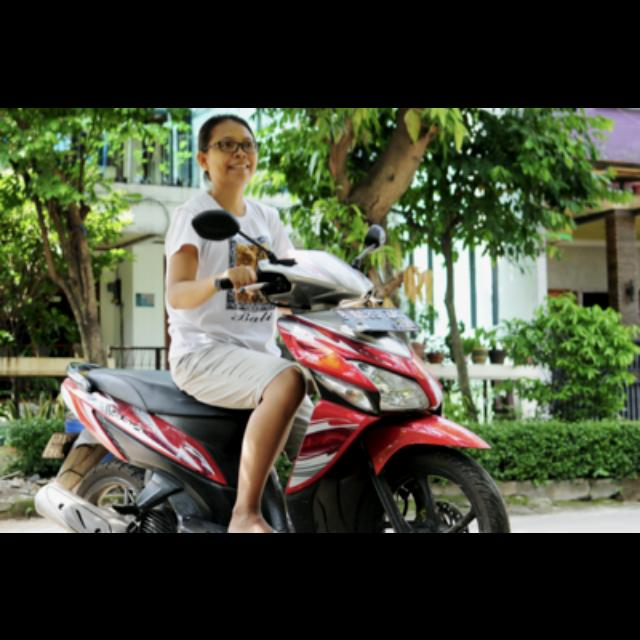Without Helmet: (194, 115, 266, 185)
